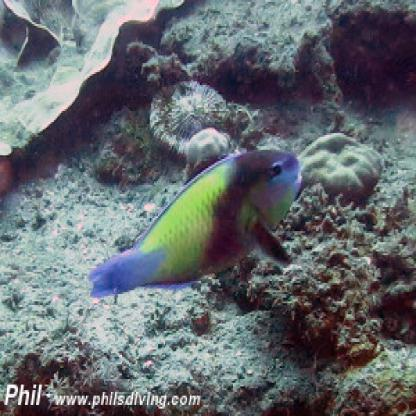Bio: (83, 135, 301, 316)
